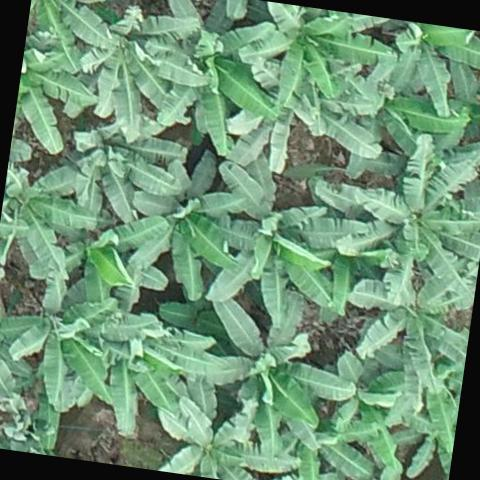Banana-plant: (189, 281, 366, 462), (330, 124, 480, 306), (196, 160, 332, 338), (146, 0, 292, 163), (118, 142, 248, 308), (228, 52, 390, 183), (70, 6, 210, 147), (342, 250, 478, 393), (342, 46, 468, 198), (232, 0, 391, 116), (2, 268, 120, 420), (102, 302, 216, 447), (28, 202, 167, 315), (59, 117, 190, 227), (0, 158, 102, 291), (149, 395, 305, 480), (366, 17, 480, 122), (10, 36, 104, 162), (319, 351, 412, 473), (285, 390, 386, 480), (24, 0, 117, 60), (0, 299, 41, 391)
